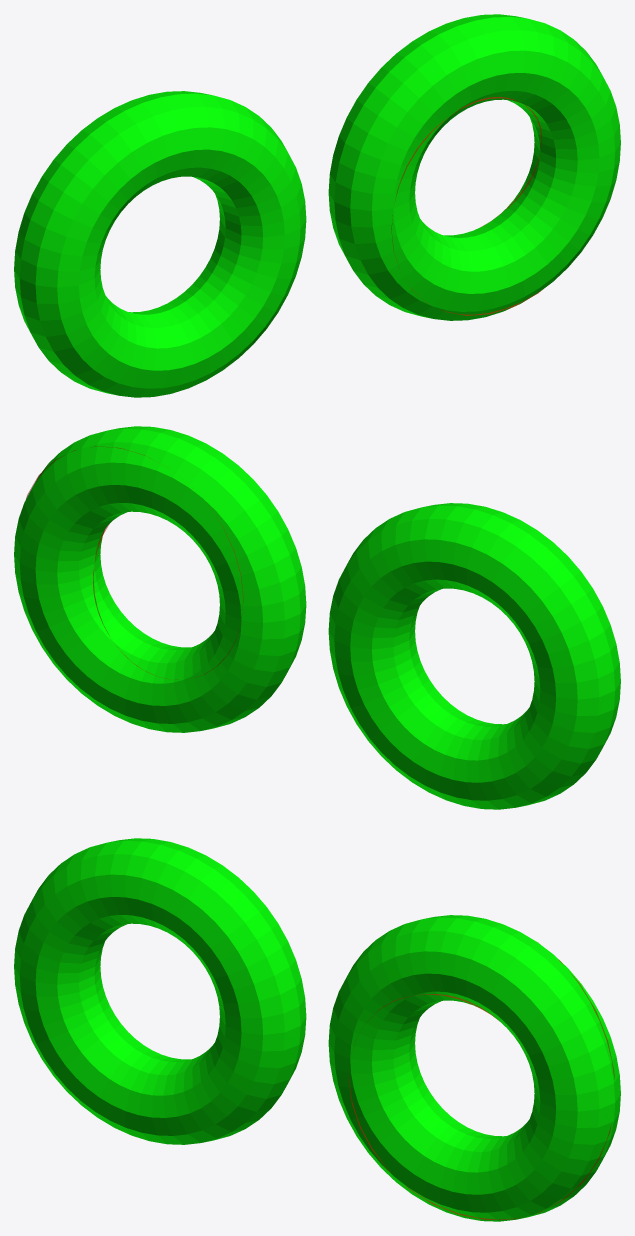
The model's file is l2_1_website.glb.
The picture shows the model from 3 angles, top to bottom: view 1: azimuth 30°, elevation 25°; view 2: azimuth 150°, elevation 25°; view 3: azimuth 330°, elevation 25°; orthographic projection.
Visible parts, largest first — view 1: Torus1, Torus2, l3_1; view 2: Torus2, Torus1; view 3: Torus1, Torus2, l3_1.
Boxes of the visible parts, left/top/right/bottom form: Torus1: left=14, top=91, right=306, bottom=397; Torus2: left=328, top=14, right=620, bottom=320; l3_1: left=391, top=97, right=542, bottom=315; Torus2: left=14, top=426, right=306, bottom=732; Torus1: left=328, top=503, right=620, bottom=809; Torus1: left=14, top=838, right=306, bottom=1144; Torus2: left=328, top=915, right=620, bottom=1221; l3_1: left=348, top=959, right=614, bottom=1219.
Bounding box in the file's own units: 318 × 150 × 40.
